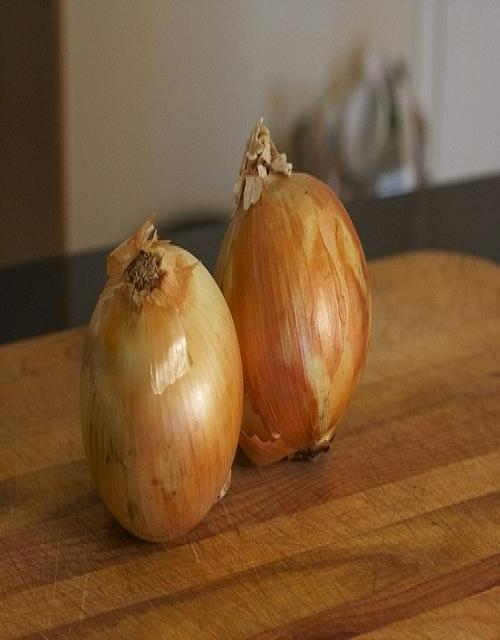Cebolla-: (72, 118, 412, 564)
